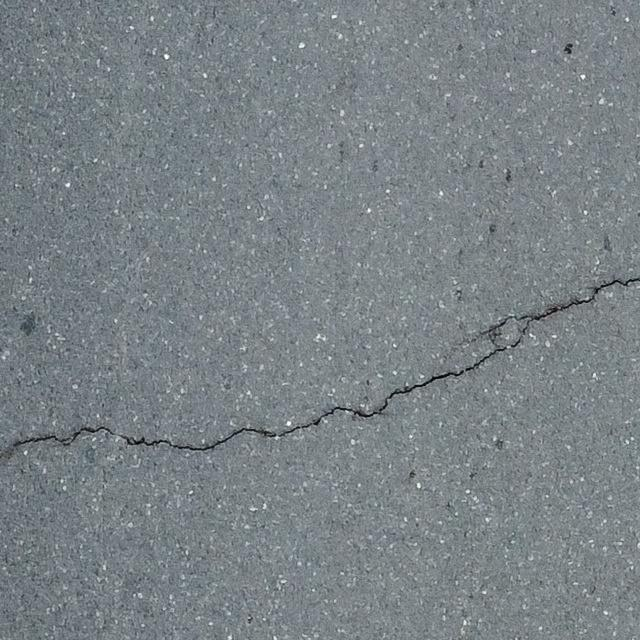TransverseCrack: (18, 275, 640, 451)
